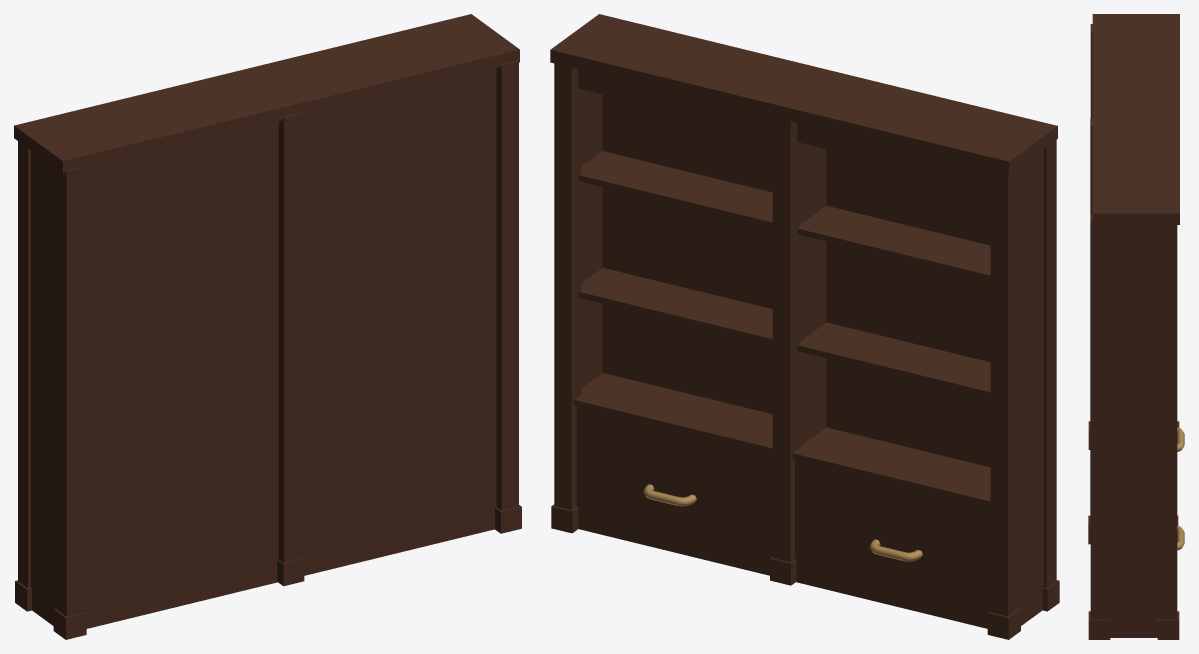
File: Double Shelf.fbx
3 renders of one model, left to right at view 1: azimuth 30°, elevation 25°; view 2: azimuth 150°, elevation 25°; view 3: azimuth 270°, elevation 25°, orthographic. The views are drawn at different scales.
Parts seen in each view (by area): view 1: Cube.021; view 2: Cube.021, NurbsPath.001; view 3: Cube.021, NurbsPath.001.
Boxes of the visible parts, x1,y1,x2,y2 form: Cube.021: (14, 14, 521, 639); Cube.021: (550, 14, 1059, 639); NurbsPath.001: (643, 484, 922, 561); Cube.021: (1088, 14, 1179, 639); NurbsPath.001: (1177, 427, 1184, 550).
Size of the model in its own units: 820 by 818 by 167.
